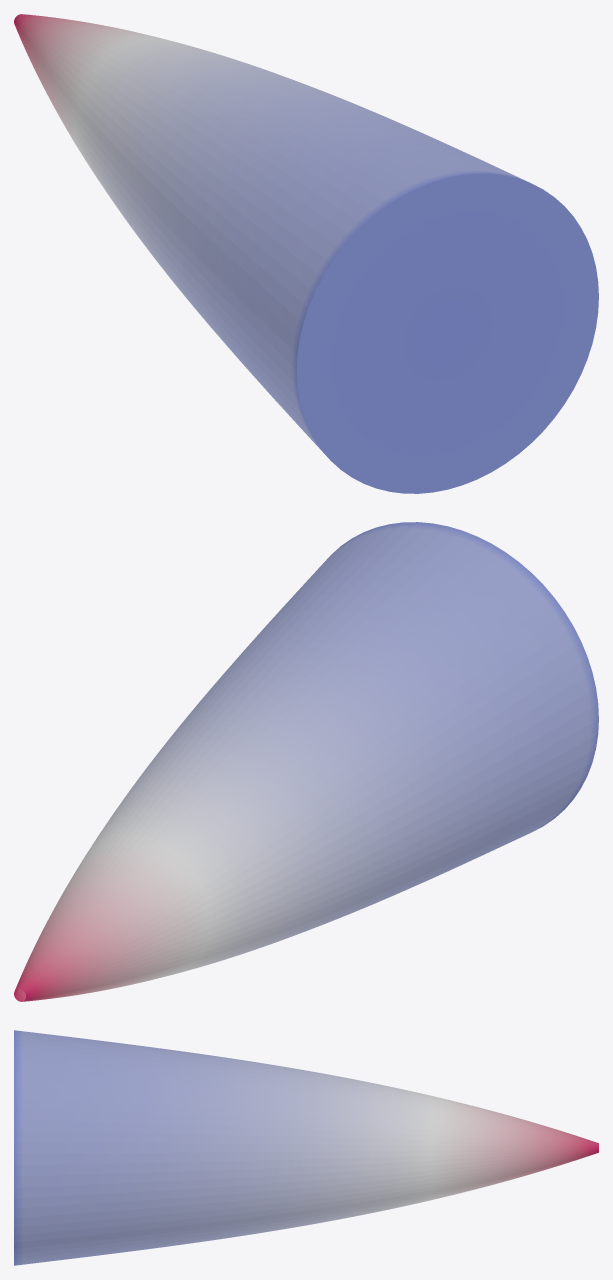
Rendered from frame_020_unlit.glb.
3 views of the same model, one above another, from view 1: azimuth 30°, elevation 25°; view 2: azimuth 150°, elevation 25°; view 3: azimuth 270°, elevation 25° (orthographic). The views are drawn at different scales.
Parts seen in each view (by area): view 1: geometry_0; view 2: geometry_0; view 3: geometry_0.
Boxes of the visible parts, x1,y1,x2,y2 form: geometry_0: [14, 14, 598, 493]; geometry_0: [14, 522, 598, 1001]; geometry_0: [14, 1030, 598, 1265].
Bounding box in the file's own units: 0.4077 × 0.4022 × 1.
